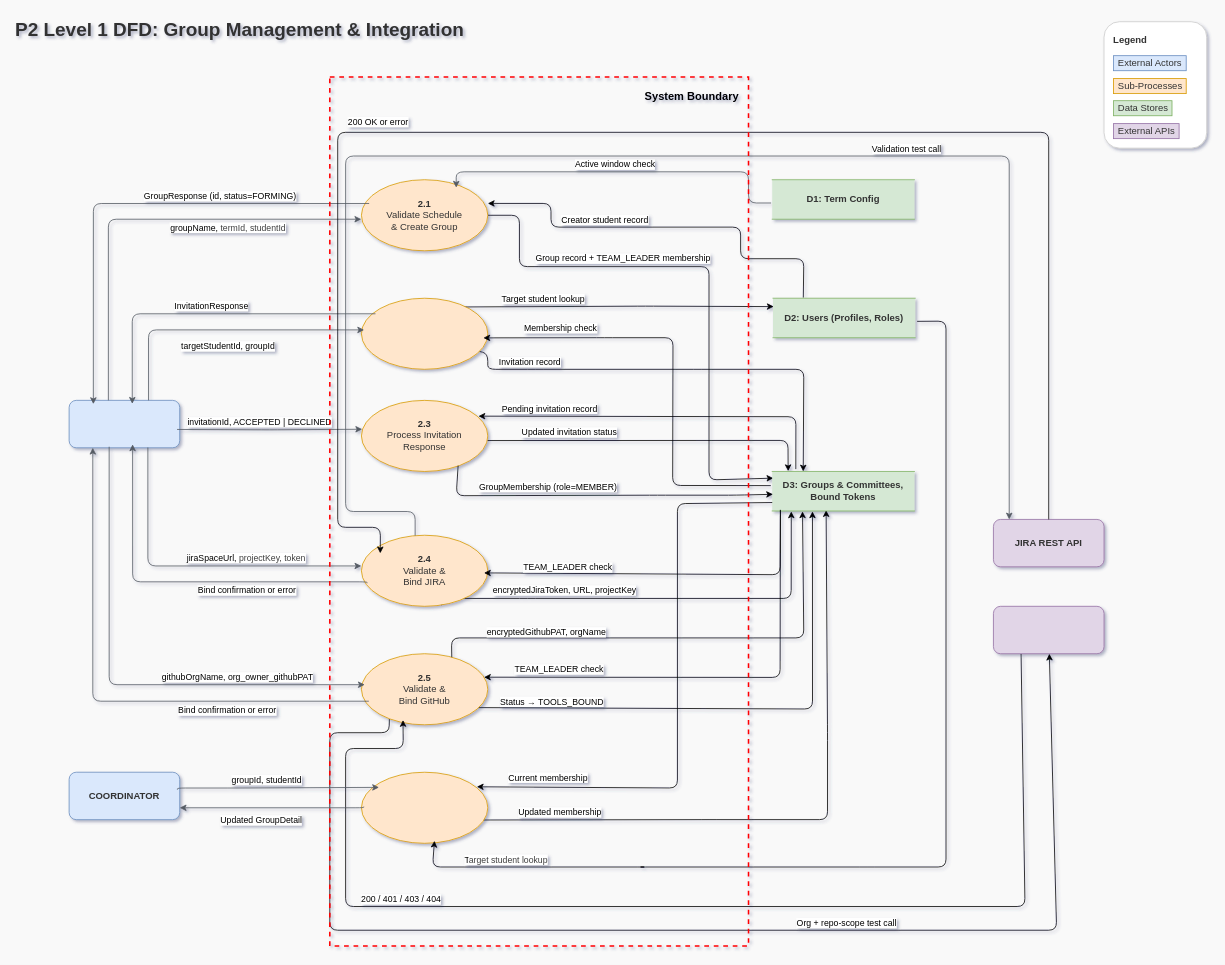
This 1225x965 diagram has some shape labels left out. The shapes that lost their labels are listed below. From the top down, each one's centre as x and y in pixels, then its label:
point 424,333: 2.2 Search Student & Send Invitation
point 124,424: STUDENT (Student / Team Leader)
point 1048,630: GitHub REST API
point 424,807: 2.6 Coordinator Group Override
